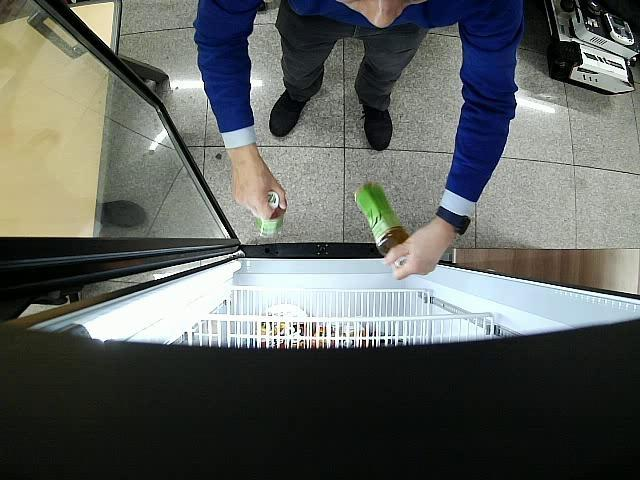19_17cha: (355, 182, 408, 266), (255, 191, 285, 238)
